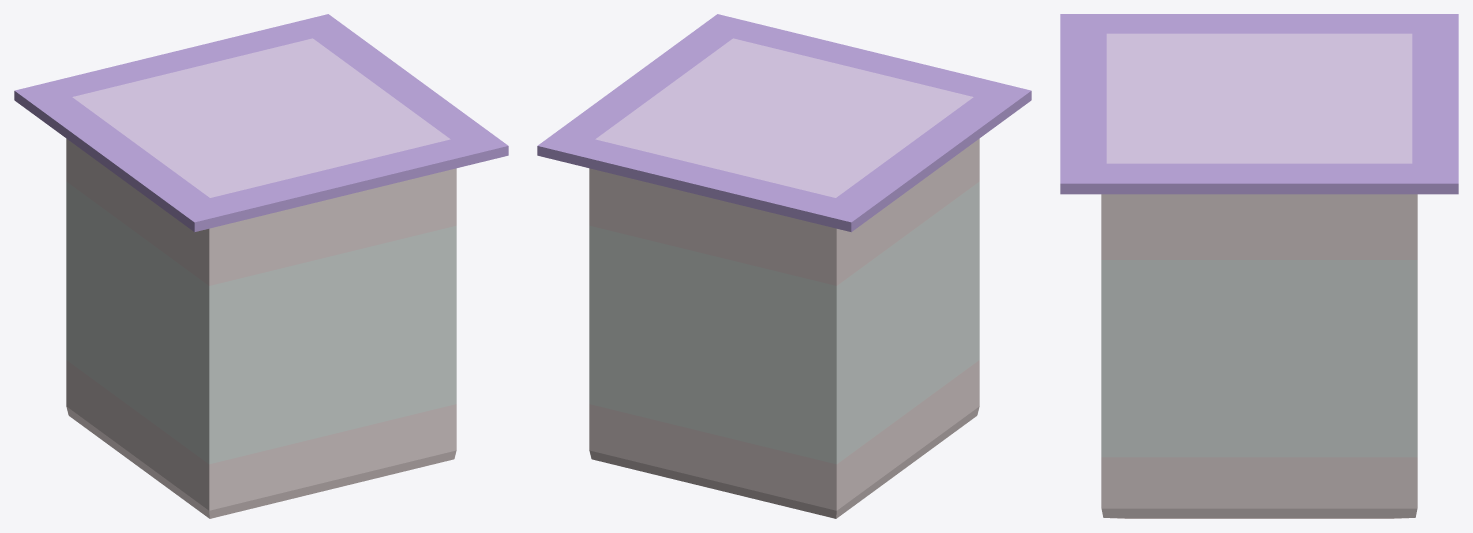
Rendered from Yogurt.fbx.
3 views of the same model, side by side, from view 1: azimuth 30°, elevation 25°; view 2: azimuth 150°, elevation 25°; view 3: azimuth 270°, elevation 25° (orthographic). The views are drawn at different scales.
Visible parts, largest first — view 1: Plane; view 2: Plane; view 3: Plane.
Boxes of the visible parts, box(x1,y1,x2,y2) form: Plane: box(14, 14, 508, 518); Plane: box(537, 14, 1031, 518); Plane: box(1060, 14, 1458, 518).
Size of the model in its own units: 161 by 162 by 160.
